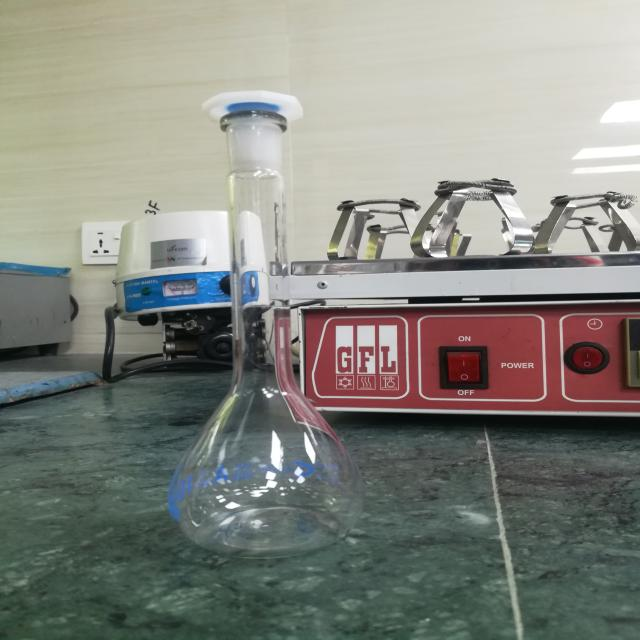Volumetric_Flask: (130, 47, 388, 590)
